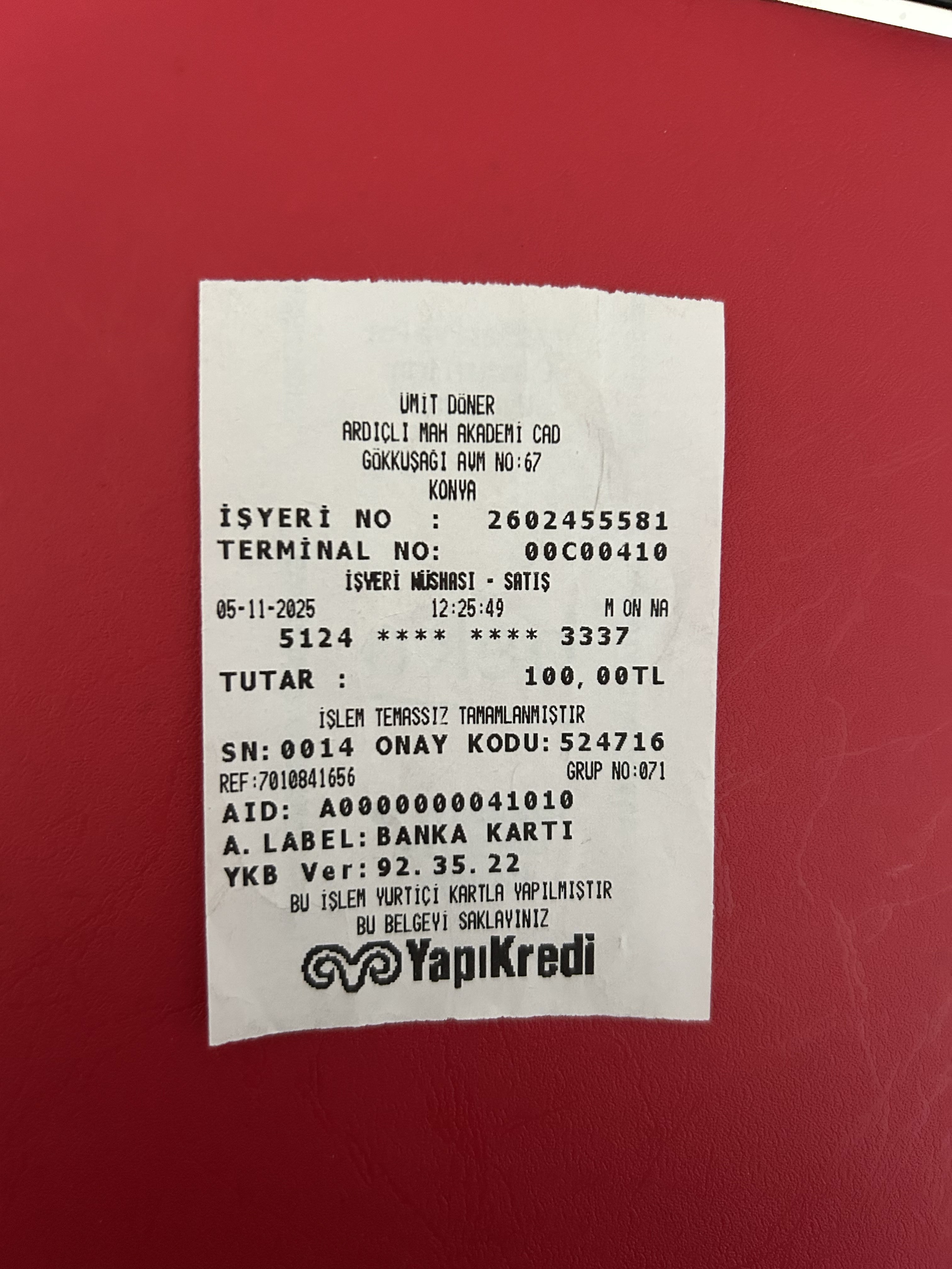date: (204, 589, 331, 627)
price: (512, 655, 674, 698)
workplace: (328, 376, 581, 506)
